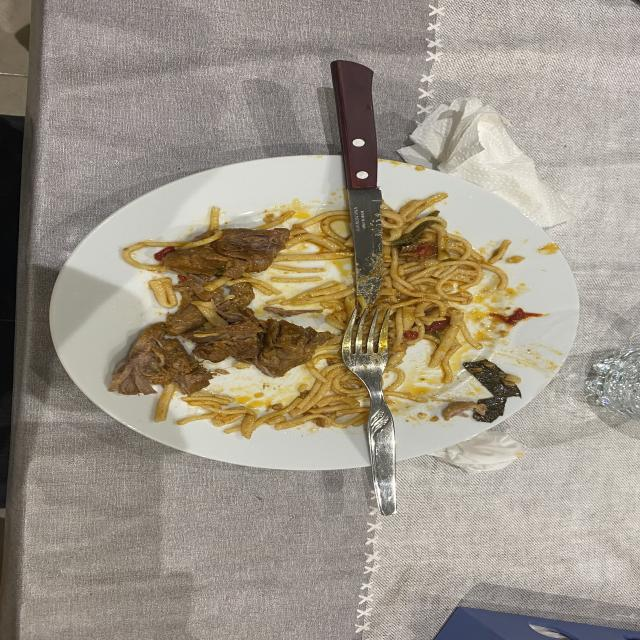fork: (341, 299, 396, 515)
garbage: (398, 97, 571, 227), (463, 360, 521, 422)
knife: (331, 60, 382, 307)
plate: (50, 156, 578, 515)
spaghetti: (235, 193, 507, 438), (274, 210, 354, 265)
stewed veal: (109, 208, 334, 421)
water cup: (586, 348, 640, 420)
